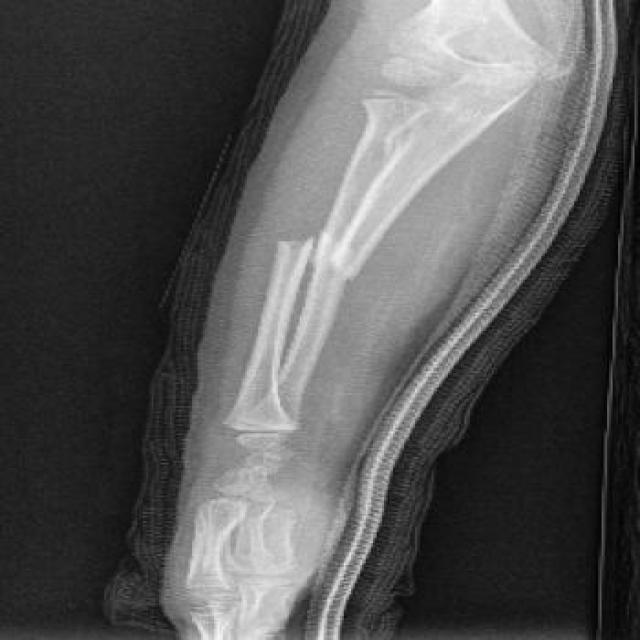Fracture: (268, 225, 376, 288)
